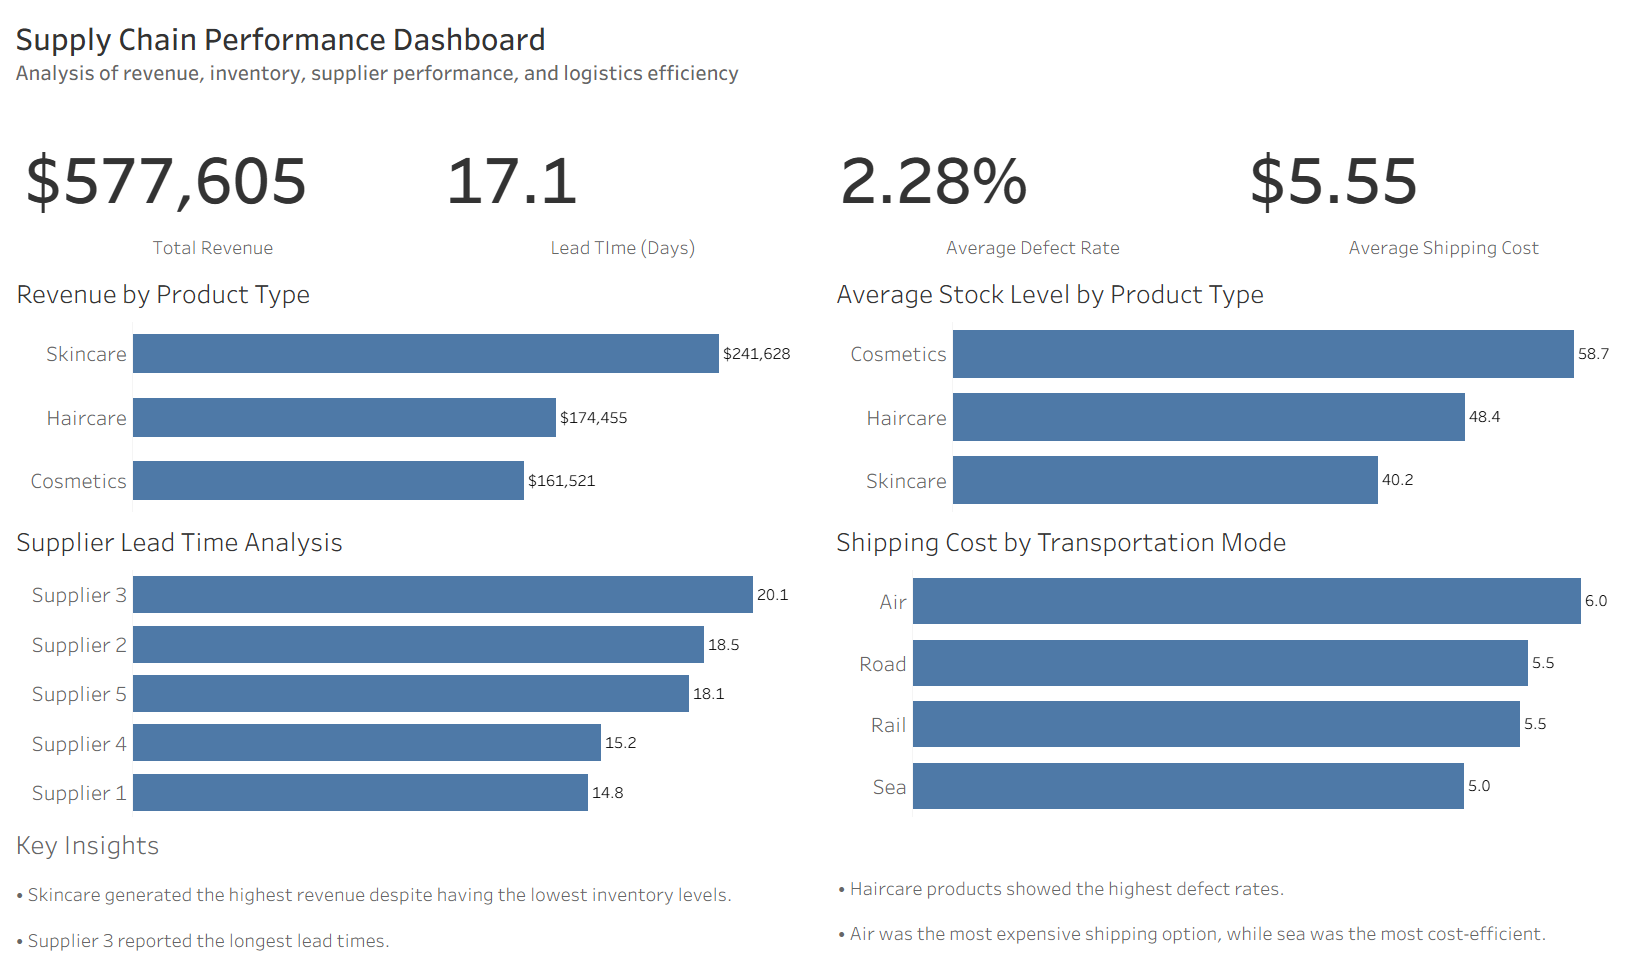

What the dashboard file says about the page in this screenshot:
{"tool":"tableau","page":{"name":"Supply Supply Chain Performance Dashboard Analysis Dashboard","canvas":[1000,1000],"units":"permille","ordinal":0},"visuals":[{"type":"text","box":[4.8,8.2,990.3,97.8]},{"type":"blank","box":[4.8,106.1,990.3,33]},{"type":"worksheet","title":"KPI - Total Revenue","mark":"Automatic","box":[4.8,139,247.6,97.8]},{"type":"worksheet","title":"KPI - Avg Lead Time","mark":"Automatic","box":[252.4,139,247.6,97.8]},{"type":"worksheet","title":"KPI - Avg Defect Rate","mark":"Automatic","box":[500,139,247.6,97.8]},{"type":"worksheet","title":"KPI - Avg Shipping Cost","mark":"Automatic","box":[747.6,139,247.6,97.8]},{"type":"text","box":[4.8,236.9,247.6,43.2]},{"type":"text","box":[252.4,236.9,247.6,43.2]},{"type":"text","box":[500,236.9,247.6,43.2]},{"type":"text","box":[747.6,236.9,247.6,43.2]},{"type":"worksheet","title":"Revenue by Product Type","mark":"Bar","rows":["Product type"],"cols":["Revenue generated"],"box":[4.8,280.1,495.2,255.4]},{"type":"worksheet","title":"Average Stock Level by Product Type","mark":"Automatic","rows":["Product type"],"cols":["Stock levels"],"box":[500,280.1,495.2,255.4]},{"type":"worksheet","title":"Supplier Lead Time Analysis","mark":"Automatic","rows":["Supplier name"],"cols":["Lead time"],"box":[4.8,535.5,495.2,314.1]},{"type":"worksheet","title":"Shipping Cost by Transportation Mode","mark":"Automatic","rows":["Transportation modes"],"cols":["Shipping costs"],"box":[500,535.5,495.2,314.1]},{"type":"text","box":[4.8,849.6,496.4,142.1]},{"type":"text","box":[501.2,849.6,494,142.1]}]}

Visuals, with their boxes on the dashboard's canvas, which has no fixed pixel size, in thousandths of its width and height (x1, y1, x2, y2). These are canvas units, not pixel positions in the 1651x966 screenshot, which may show the page scaled, cropped or inside an application window:
text: (5,8,995,106)
blank: (5,106,995,139)
"KPI - Total Revenue" worksheet: (5,139,252,237)
"KPI - Avg Lead Time" worksheet: (252,139,500,237)
"KPI - Avg Defect Rate" worksheet: (500,139,748,237)
"KPI - Avg Shipping Cost" worksheet: (748,139,995,237)
text: (5,237,252,280)
text: (252,237,500,280)
text: (500,237,748,280)
text: (748,237,995,280)
"Revenue by Product Type" worksheet (Bar marks): (5,280,500,536)
"Average Stock Level by Product Type" worksheet: (500,280,995,536)
"Supplier Lead Time Analysis" worksheet: (5,536,500,850)
"Shipping Cost by Transportation Mode" worksheet: (500,536,995,850)
text: (5,850,501,992)
text: (501,850,995,992)
